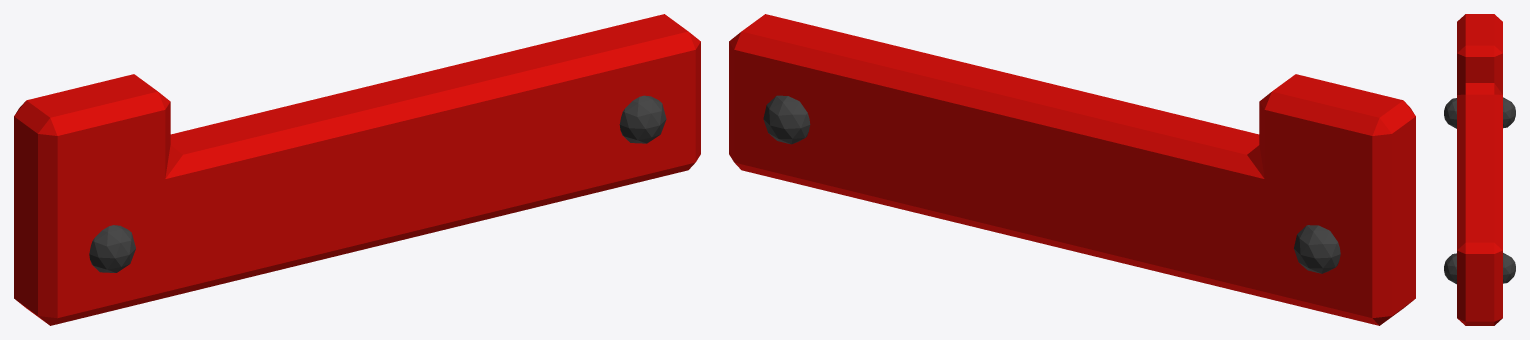
The model's file is BarLC.fbx.
3 views of the same model, side by side, from view 1: azimuth 30°, elevation 25°; view 2: azimuth 150°, elevation 25°; view 3: azimuth 270°, elevation 25° (orthographic). The views are drawn at different scales.
Parts seen in each view (by area): view 1: BarC; view 2: BarC; view 3: BarC.
Part boxes in pixels (<box>): BarC: <box>14,14,700,325</box>; BarC: <box>729,14,1415,325</box>; BarC: <box>1444,14,1515,325</box>.
Bounding box in the file's own units: 1000 × 300 × 157.
